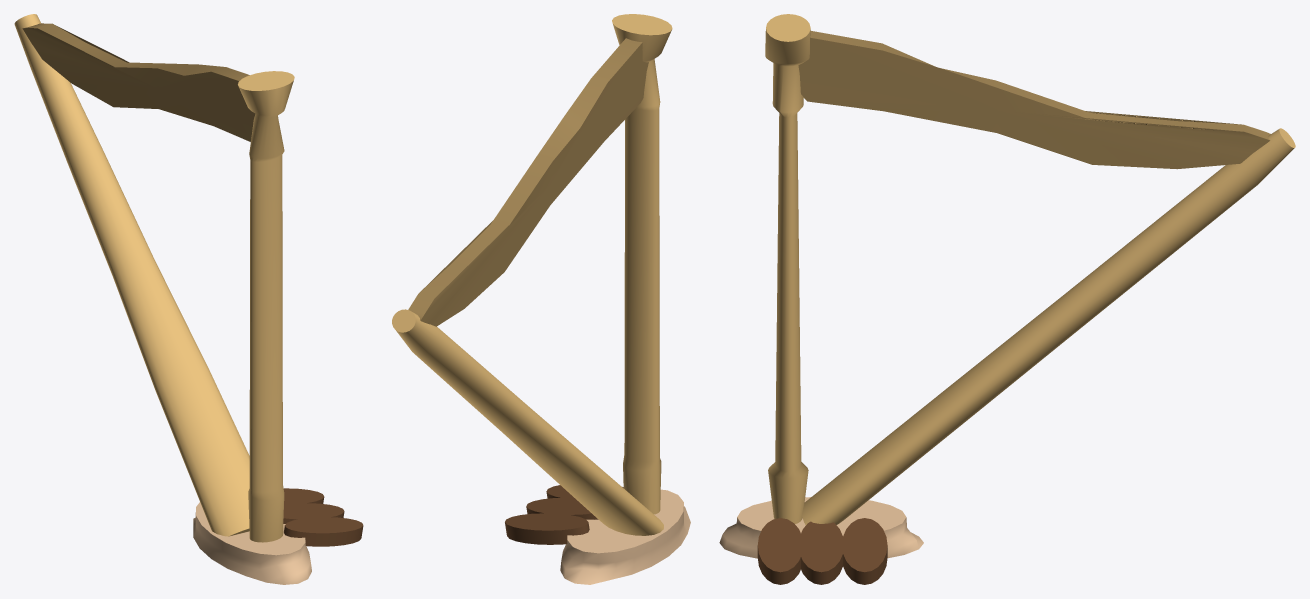
File: harp.fbx
3 views of the same model, side by side, from view 1: azimuth 30°, elevation 25°; view 2: azimuth 150°, elevation 25°; view 3: azimuth 270°, elevation 25° (orthographic). The views are drawn at different scales.
Parts seen in each view (by area): view 1: pCylinder2, pCylinder1, pCylinder5, pCylinder3, pCylinder6, pasted__pCylinder6 (×2); view 2: pCylinder1, pCylinder5, pCylinder2, pCylinder3, pasted__pCylinder6 (×2); view 3: pCylinder5, pCylinder2, pCylinder1, pasted__pCylinder6 (×2), pCylinder3, pCylinder6.
Boxes of the visible parts, x1,y1,x2,y2 form: pCylinder2: (14,14,249,536); pCylinder1: (238,71,294,542); pCylinder5: (22,23,255,141); pCylinder3: (193,502,311,584); pCylinder6: (284,517,363,546); pasted__pCylinder6 (×2): (283,488,344,523); pCylinder1: (612,14,672,514); pCylinder5: (408,38,648,326); pCylinder2: (392,309,663,535); pCylinder3: (560,489,690,584); pasted__pCylinder6 (×2): (505,497,598,544); pCylinder5: (798,31,1270,169); pCylinder2: (802,128,1295,525); pCylinder1: (765,14,810,523); pasted__pCylinder6 (×2): (798,518,887,584); pCylinder3: (719,497,923,558); pCylinder6: (757,518,803,584).
Size of the model in its own units: 0.5673 by 1.97 by 1.99.
